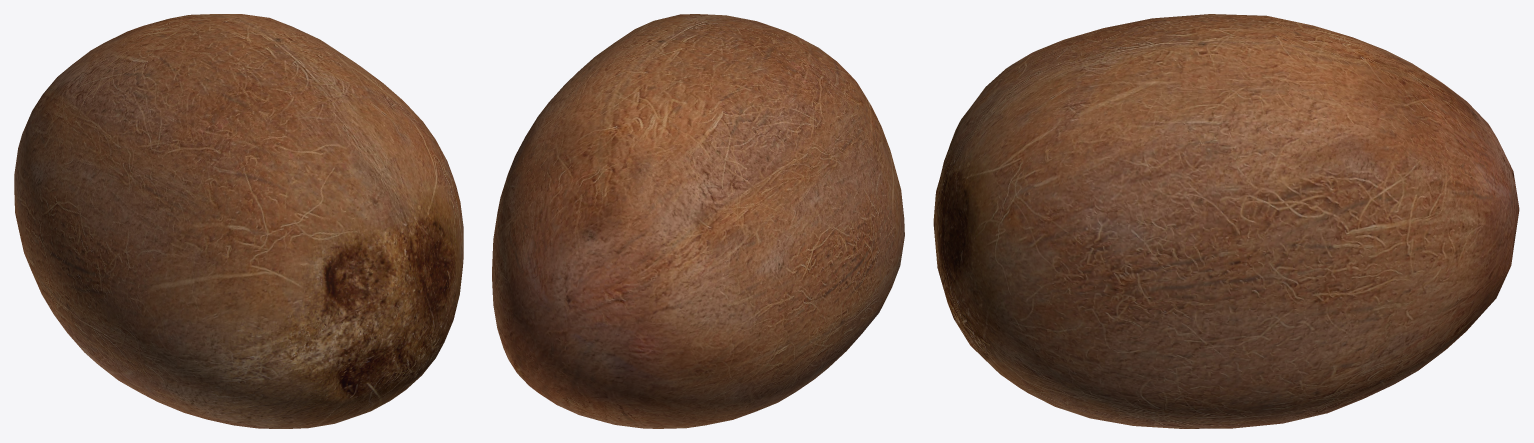
File: Coconut.FBX
3 views of the same model, side by side, from view 1: azimuth 30°, elevation 25°; view 2: azimuth 150°, elevation 25°; view 3: azimuth 270°, elevation 25° (orthographic). The views are drawn at different scales.
Parts seen in each view (by area): view 1: AM130_011_001; view 2: AM130_011_001; view 3: AM130_011_001.
Part boxes in pixels (x1,y1,x2,y2): AM130_011_001: (14, 14, 463, 428); AM130_011_001: (492, 14, 904, 428); AM130_011_001: (933, 14, 1519, 428).
Bounding box in the file's own units: 13.99 × 14.52 × 20.29.
